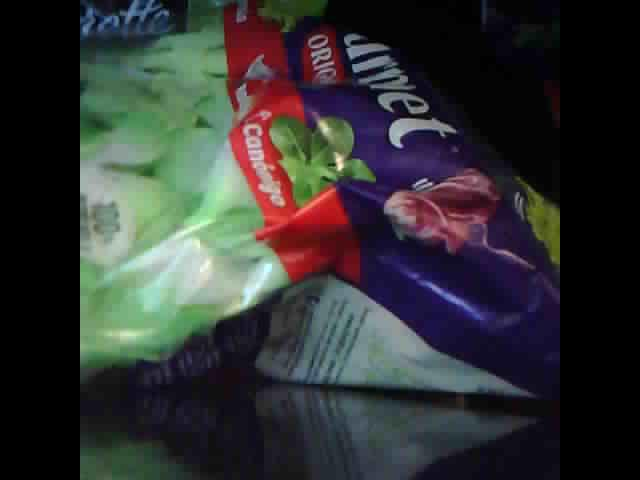florette: (82, 3, 560, 397)
